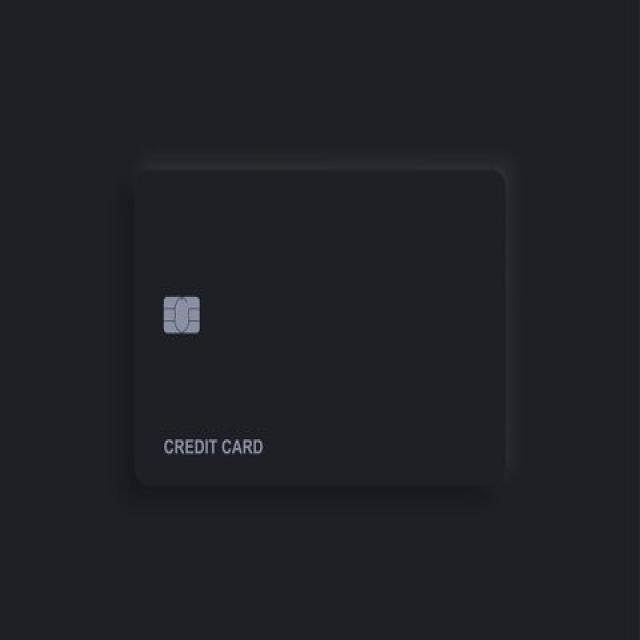payment_card: (128, 155, 512, 491)
